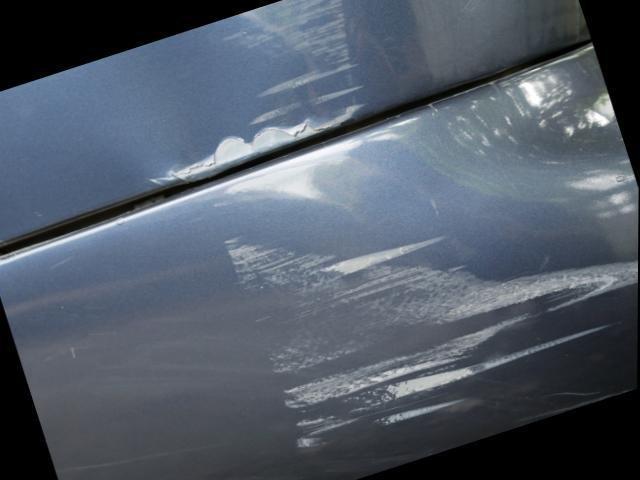scratch: (222, 230, 639, 459), (213, 0, 363, 139)
